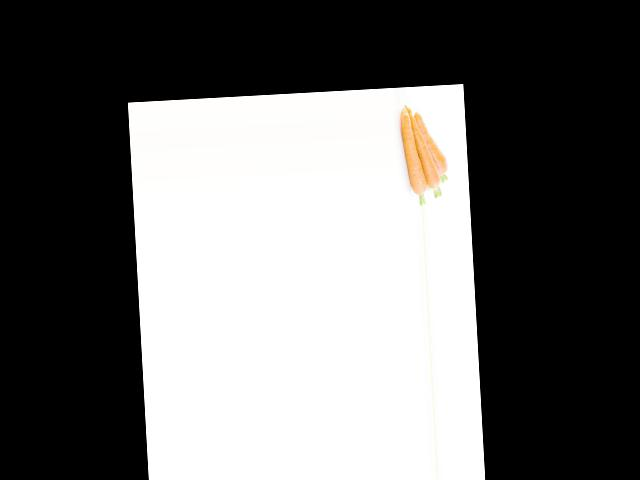carrot: (400, 108, 425, 201)
